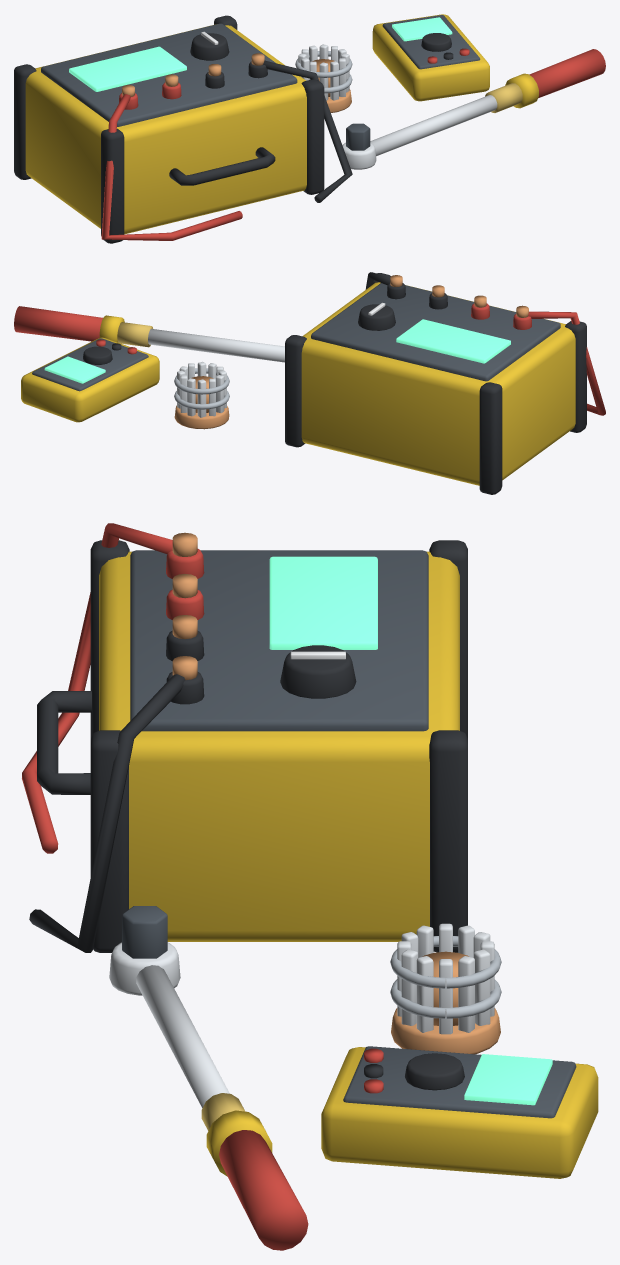
The model's file is workbench-tools.glb.
3 renders of one model, top to bottom at view 1: azimuth 30°, elevation 25°; view 2: azimuth 150°, elevation 25°; view 3: azimuth 270°, elevation 25°, orthographic. The views are drawn at different scales.
Parts seen in each view (by area): view 1: WorkbenchToolsAssembly; view 2: WorkbenchToolsAssembly; view 3: WorkbenchToolsAssembly.
Boxes of the visible parts, bbox=[...] form: WorkbenchToolsAssembly: bbox=[14, 14, 605, 243]; WorkbenchToolsAssembly: bbox=[14, 272, 605, 494]; WorkbenchToolsAssembly: bbox=[22, 523, 598, 1250].
Bounding box in the file's own units: 0.894 × 0.202 × 0.4153.
